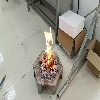fire: (40, 26, 54, 73), (4, 74, 6, 77)
